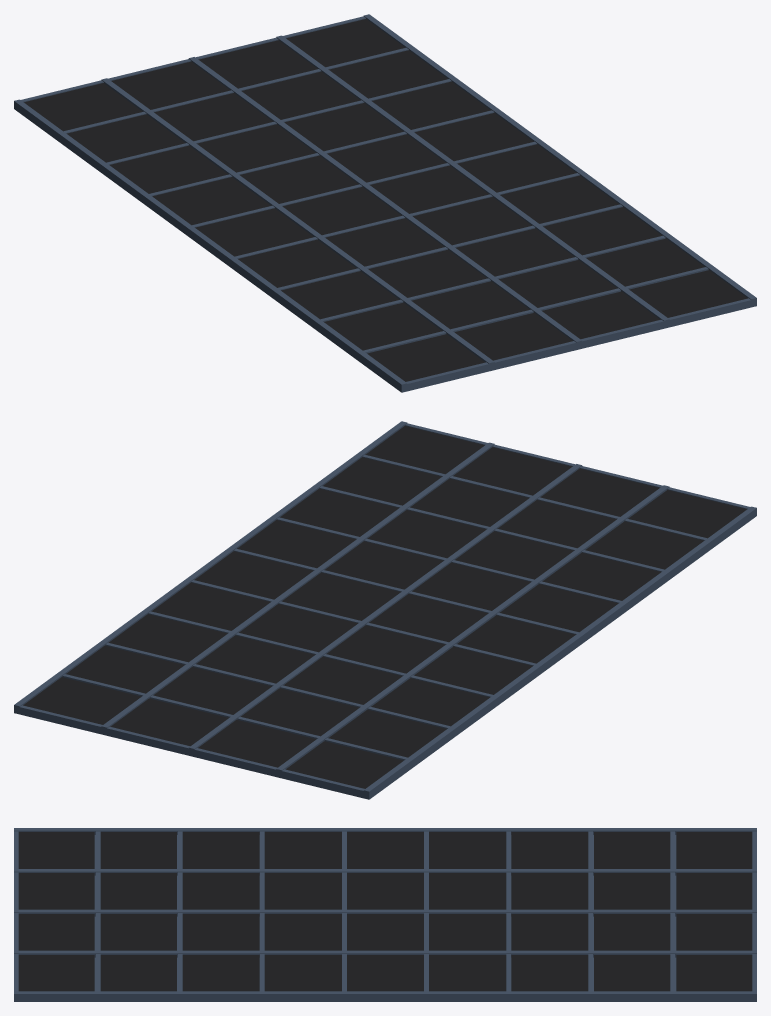
Rendered from rs50s_panel.obj.
3 views of the same model, one above another, from view 1: azimuth 30°, elevation 25°; view 2: azimuth 150°, elevation 25°; view 3: azimuth 270°, elevation 25° (orthographic). The views are drawn at different scales.
Parts seen in each view (by area): view 1: rs50s_panel; view 2: rs50s_panel; view 3: rs50s_panel.
Part boxes in pixels (x1,y1,x2,y2): rs50s_panel: (14, 14, 756, 392); rs50s_panel: (14, 421, 756, 799); rs50s_panel: (14, 828, 756, 1001).
Bounding box in the file's own units: 5 × 0.11 × 9.45.
